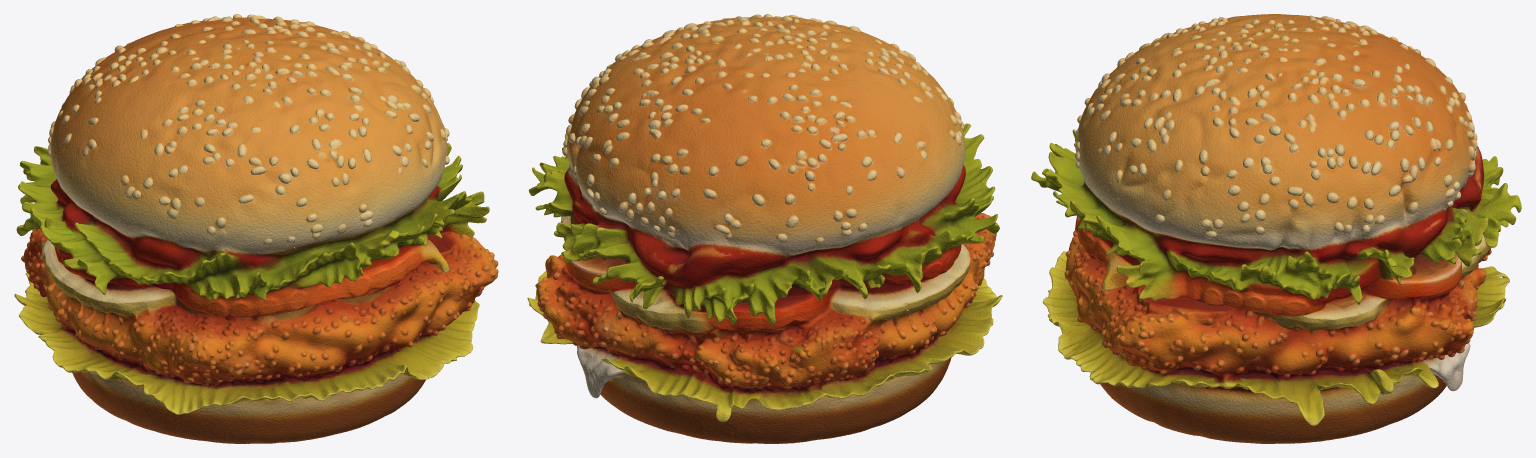
The model's file is friedChickenSandwich.glb.
3 views of the same model, side by side, from view 1: azimuth 30°, elevation 25°; view 2: azimuth 150°, elevation 25°; view 3: azimuth 270°, elevation 25° (orthographic).
Visible parts, largest first — view 1: tripo_node_29a7c611-af8d-4abb-9e75-525c8fe4afec; view 2: tripo_node_29a7c611-af8d-4abb-9e75-525c8fe4afec; view 3: tripo_node_29a7c611-af8d-4abb-9e75-525c8fe4afec.
Boxes of the visible parts, box(x1,y1,x2,y2) form: tripo_node_29a7c611-af8d-4abb-9e75-525c8fe4afec: box(14, 14, 498, 443); tripo_node_29a7c611-af8d-4abb-9e75-525c8fe4afec: box(527, 14, 1002, 443); tripo_node_29a7c611-af8d-4abb-9e75-525c8fe4afec: box(1031, 14, 1521, 443).
Size of the model in its own units: 0.9617 by 0.7388 by 0.9917.
Materials: 1 (1 with a texture image).
